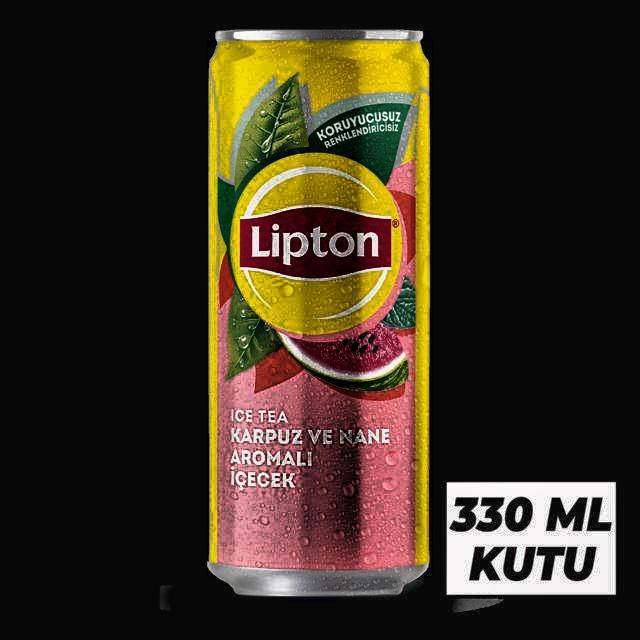metal: (206, 29, 430, 597)
